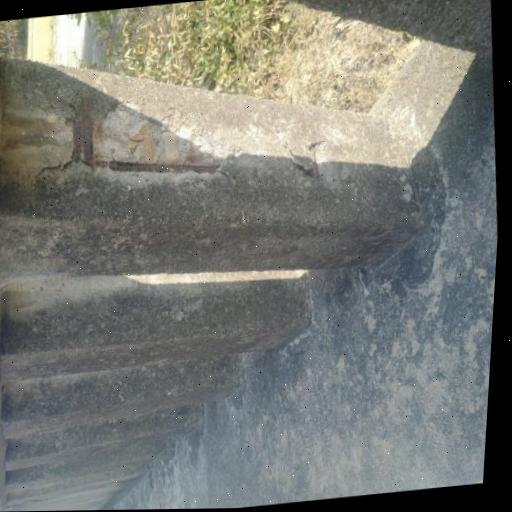exposed_rebar: (98, 160, 219, 176), (73, 94, 93, 163), (310, 148, 320, 176)
